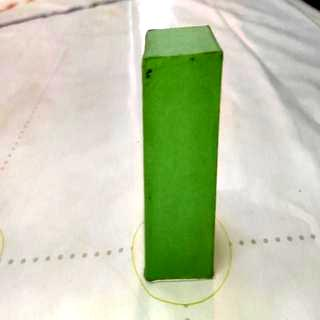greenbox: (139, 26, 226, 282)
